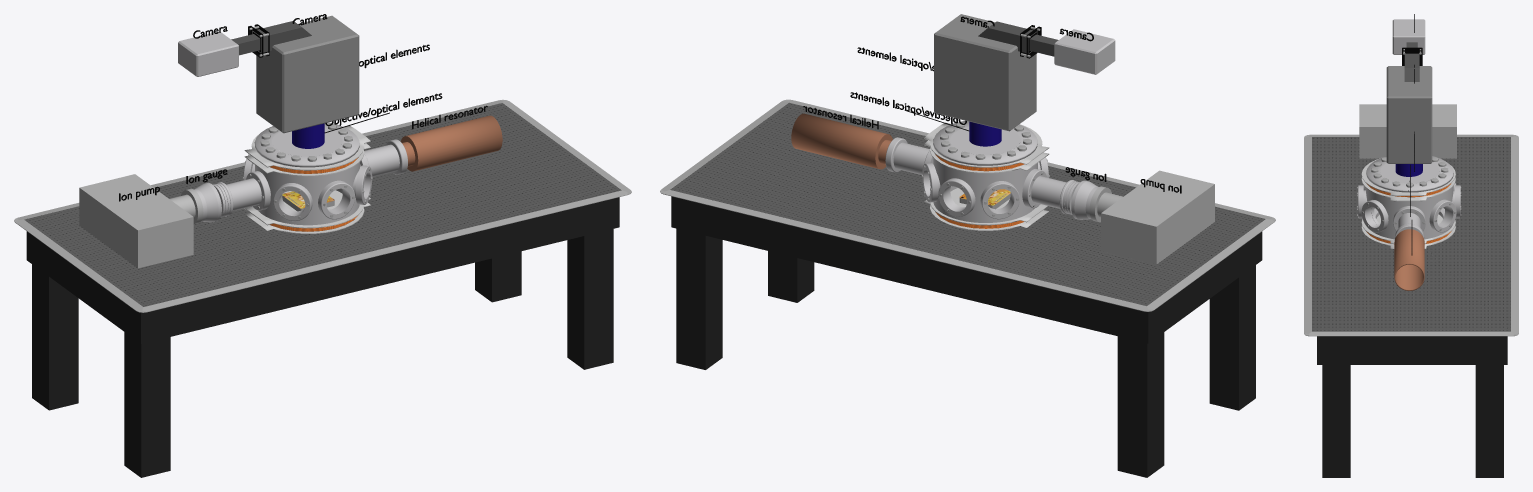
The model's file is quantum.glb.
3 views of the same model, side by side, from view 1: azimuth 30°, elevation 25°; view 2: azimuth 150°, elevation 25°; view 3: azimuth 270°, elevation 25° (orthographic). The views are drawn at different scales.
Parts seen in each view (by area): view 1: Cube.004, Cube.002, Cube.013, Cube.012, Cube.006, Cube.003, Cube.007, Cylinder.003, корпус, Cube.001, Cube.005, цилиндр_крышки (+11 smaller); view 2: Cube.004, Cube.002, Cube.013, Cube.012, Cube.007, Cube.005, Cube.006, Cylinder.003, корпус, Cube.001, Cube.003, цилиндр_крышки (+11 smaller); view 3: Cube.004, Cube.002, Cube.013, Cube.003, Cube.005, Cube.012, Cylinder.003, корпус, цилиндр_крышки, Cube.001, Cylinder, стекло (+8 smaller).
Part boxes in pixels (box(x1,y1,x2,y2)): Cube.004: box(14, 99, 631, 312); Cube.002: box(26, 197, 619, 343); Cube.013: box(256, 15, 359, 133); Cube.012: box(79, 174, 203, 268); Cube.006: box(124, 332, 170, 477); Cube.003: box(567, 229, 613, 369); Cube.007: box(32, 264, 78, 410); Cylinder.003: box(400, 115, 502, 171); корпус: box(255, 156, 359, 225); Cube.001: box(178, 31, 238, 76); Cube.005: box(475, 251, 521, 302); цилиндр_крышки: box(254, 122, 359, 167); Cube.004: box(660, 99, 1275, 311); Cube.002: box(671, 196, 1262, 343); Cube.013: box(934, 14, 1036, 131); Cube.012: box(1089, 170, 1214, 264); Cube.007: box(1117, 332, 1164, 477); Cube.005: box(676, 228, 722, 369); Cube.006: box(1209, 265, 1255, 410); Cylinder.003: box(791, 113, 892, 169); корпус: box(933, 153, 1037, 222); Cube.001: box(1054, 29, 1115, 74); Cube.003: box(768, 251, 814, 302); цилиндр_крышки: box(933, 121, 1037, 165); Cube.004: box(1304, 134, 1518, 336); Cube.002: box(1317, 336, 1507, 364); Cube.013: box(1386, 66, 1432, 163); Cube.003: box(1322, 365, 1350, 477); Cube.005: box(1475, 365, 1503, 477); Cube.012: box(1359, 104, 1456, 158); Cylinder.003: box(1394, 229, 1424, 290); корпус: box(1366, 186, 1453, 239); цилиндр_крышки: box(1366, 156, 1453, 192); Cube.001: box(1392, 19, 1425, 54); Cylinder: box(1361, 158, 1455, 201); стекло: box(1380, 163, 1439, 183).
Bounding box in the file's own units: 10.87 × 7.97 × 4.9.
Materials: 14 (2 with a texture image).
